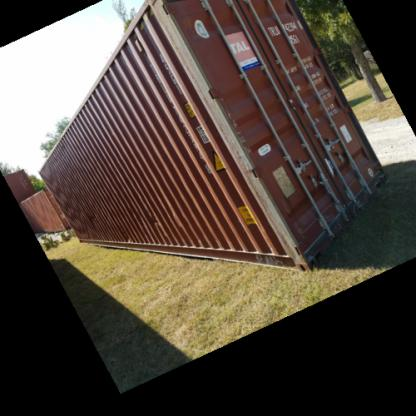Damage: (215, 100, 253, 165), (144, 207, 164, 232), (116, 226, 134, 244), (84, 208, 102, 223), (55, 141, 69, 158)
